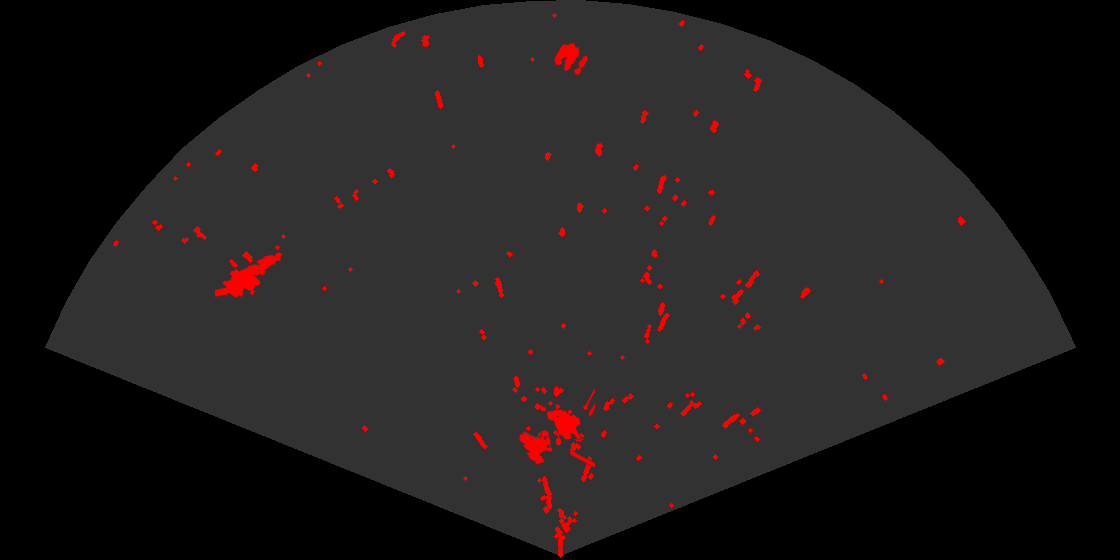ball: (553, 41, 590, 77)
cage: (518, 387, 595, 469)
frogman: (215, 251, 284, 299)
